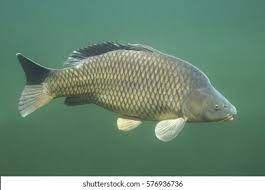Grass Carp: (16, 41, 238, 140)
